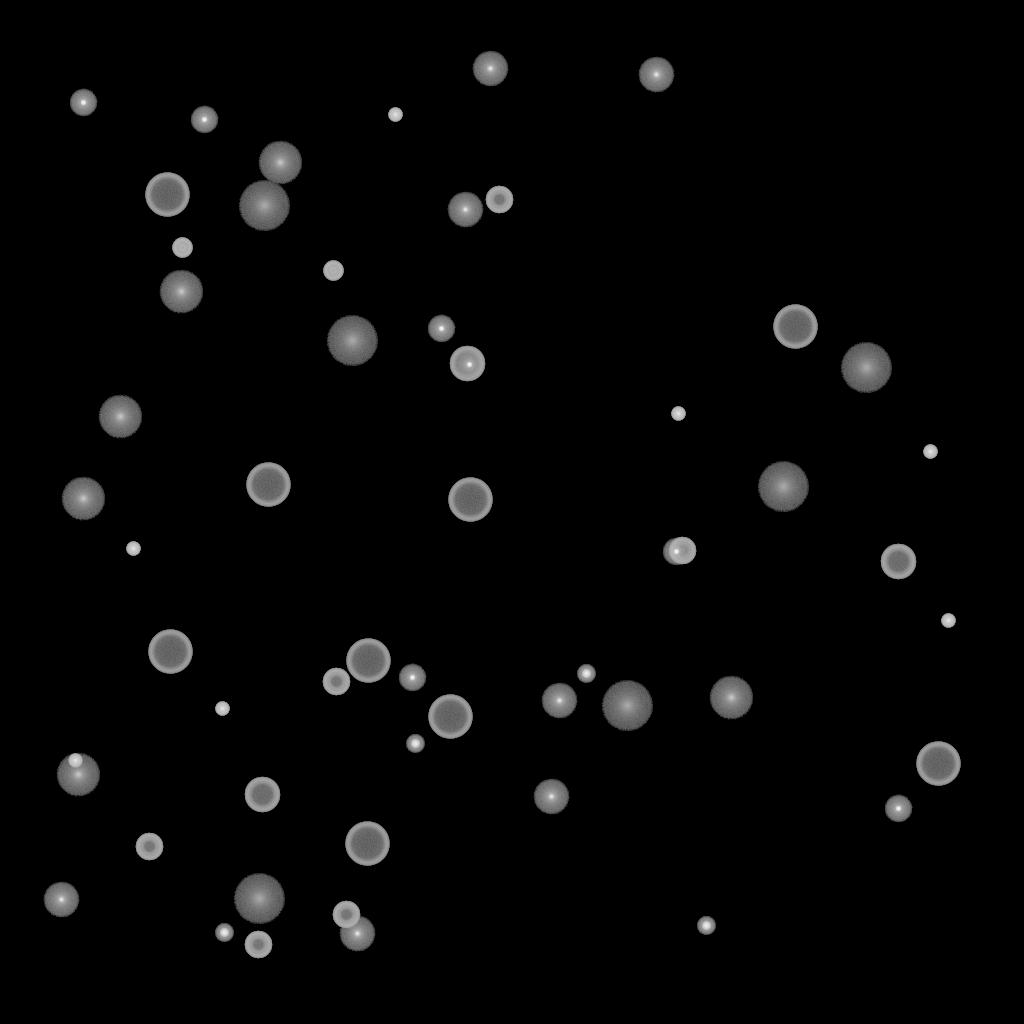depth:-10: (884, 795, 912, 823), (398, 664, 426, 692), (455, 351, 483, 379), (69, 89, 97, 117), (662, 538, 690, 566), (190, 106, 218, 134), (427, 315, 455, 343)
depth:-20: (215, 924, 233, 942), (577, 665, 595, 683), (697, 917, 715, 935), (406, 735, 424, 753)
depth:-30: (941, 614, 955, 628), (923, 445, 937, 459), (671, 407, 685, 421), (388, 108, 402, 122), (215, 702, 229, 716), (68, 754, 82, 768), (126, 542, 140, 556)
depth:-40: (172, 238, 192, 258), (323, 261, 343, 281)
depth:-50: (668, 537, 696, 565), (135, 833, 163, 861), (485, 186, 513, 214), (332, 901, 360, 929), (244, 931, 272, 959), (322, 668, 350, 696)
depth:-60: (449, 346, 485, 382), (880, 544, 916, 580), (244, 777, 280, 813)
depth:-70: (428, 695, 472, 739), (916, 742, 960, 786), (346, 639, 390, 683), (148, 630, 192, 674), (345, 822, 389, 866), (773, 305, 817, 349), (448, 478, 492, 522), (246, 463, 290, 507), (145, 173, 189, 217)
depth:0: (43, 882, 79, 918), (533, 779, 569, 815), (447, 192, 483, 228), (339, 916, 375, 952), (638, 57, 674, 93), (541, 683, 577, 719), (472, 51, 508, 87)
depth:10: (98, 395, 142, 439), (709, 676, 753, 720), (159, 270, 203, 314), (56, 753, 100, 797), (258, 141, 302, 185), (61, 477, 105, 521)
depth:20: (233, 874, 285, 924), (757, 462, 809, 512), (601, 681, 653, 731), (840, 343, 892, 393), (238, 181, 290, 231), (326, 316, 378, 366)
